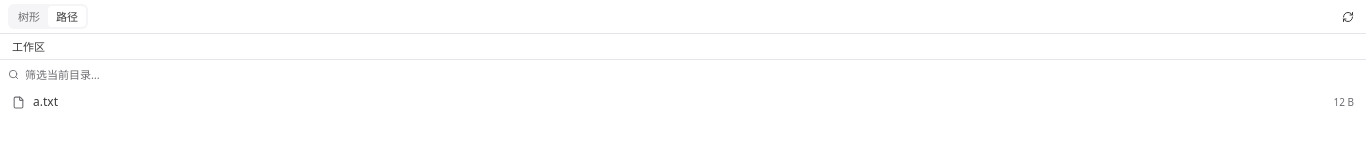
Test: FileBrowserPanel 截断提示 › 大文件被截断时显示已预览量与总量
The width and height of the screenshot is (1366, 162).
Click the button "a.txt 12 B" at (18, 102), box [4,87,1362,118]
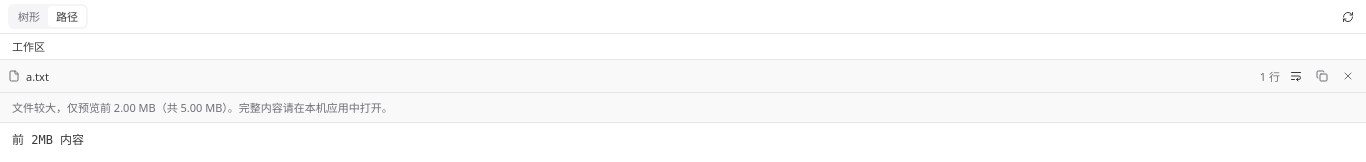
Expected: the text "文件较大，仅预览前 2.00 MB（共 5.00 MB）。完整内容请在本机应用中打开。" is shown, [0,93,1365,123]
